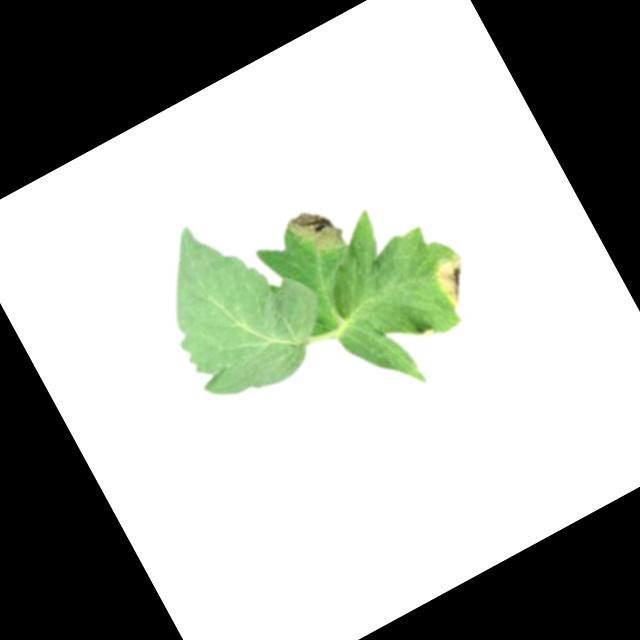Late_blight: (284, 198, 350, 267), (428, 249, 483, 310)
healthy: (130, 187, 343, 417)
